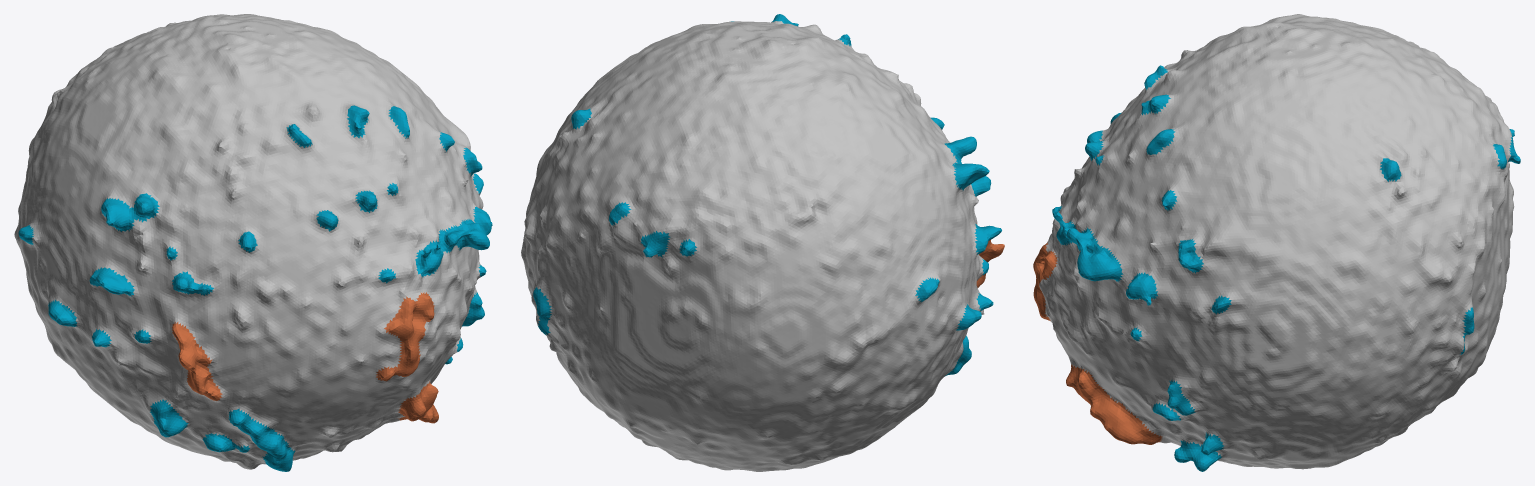
3 renders of one model, left to right at view 1: azimuth 30°, elevation 25°; view 2: azimuth 150°, elevation 25°; view 3: azimuth 270°, elevation 25°, orthographic. The views are drawn at different scales.
Size of the model in its own units: 129 by 123 by 133.
